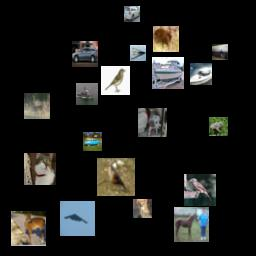airplane: (60, 201, 95, 236), (130, 45, 146, 61)
automobile: (72, 41, 98, 67), (83, 132, 102, 151), (124, 6, 140, 22)
bird: (97, 158, 135, 196), (184, 174, 216, 206), (101, 66, 130, 95)
cat: (24, 153, 56, 185)
deer: (11, 211, 46, 246), (24, 93, 50, 119), (153, 26, 179, 52)
dog: (138, 108, 167, 137), (133, 199, 152, 218)
frog: (209, 117, 228, 136)
ship: (152, 57, 184, 89), (76, 83, 98, 105), (190, 63, 212, 85)
truck: (212, 44, 228, 60)
